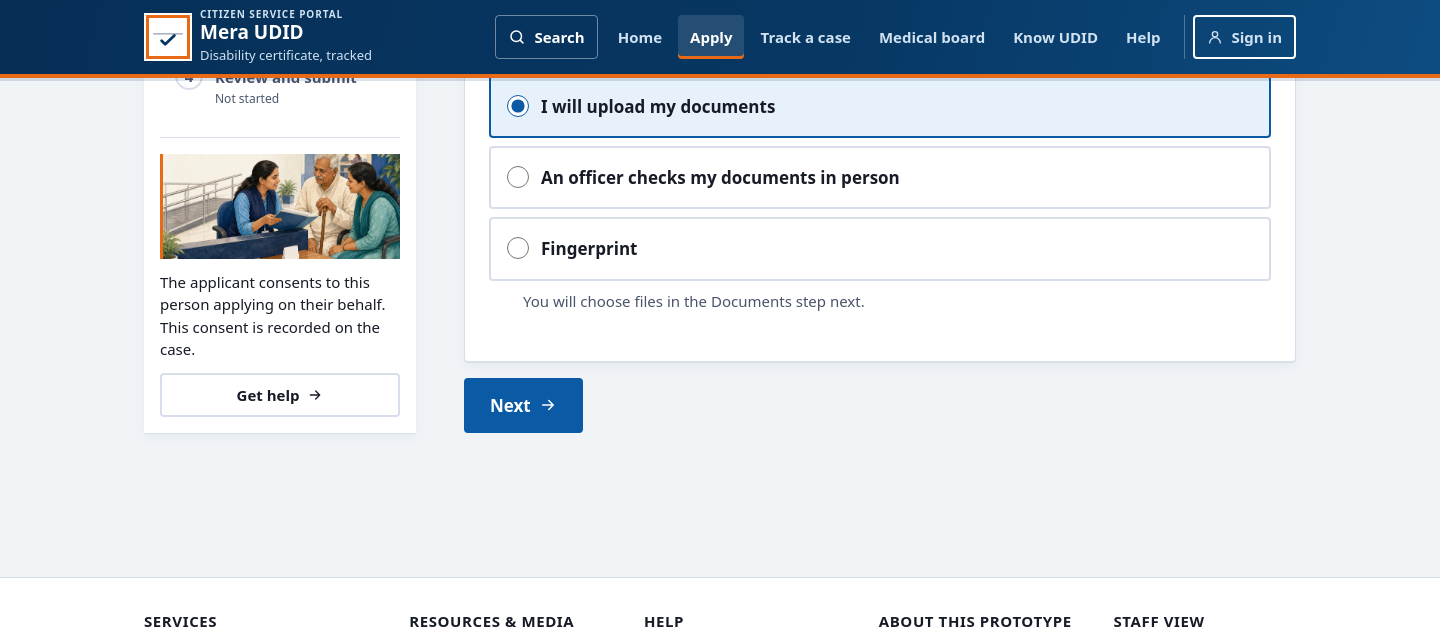
Test case: apply › refuses to move on from an empty form, and says what is wrong
The width and height of the screenshot is (1440, 641).
(page scrolled)
Click the button "Next" at (523,405), box [464,378,583,433]
(page scrolled)
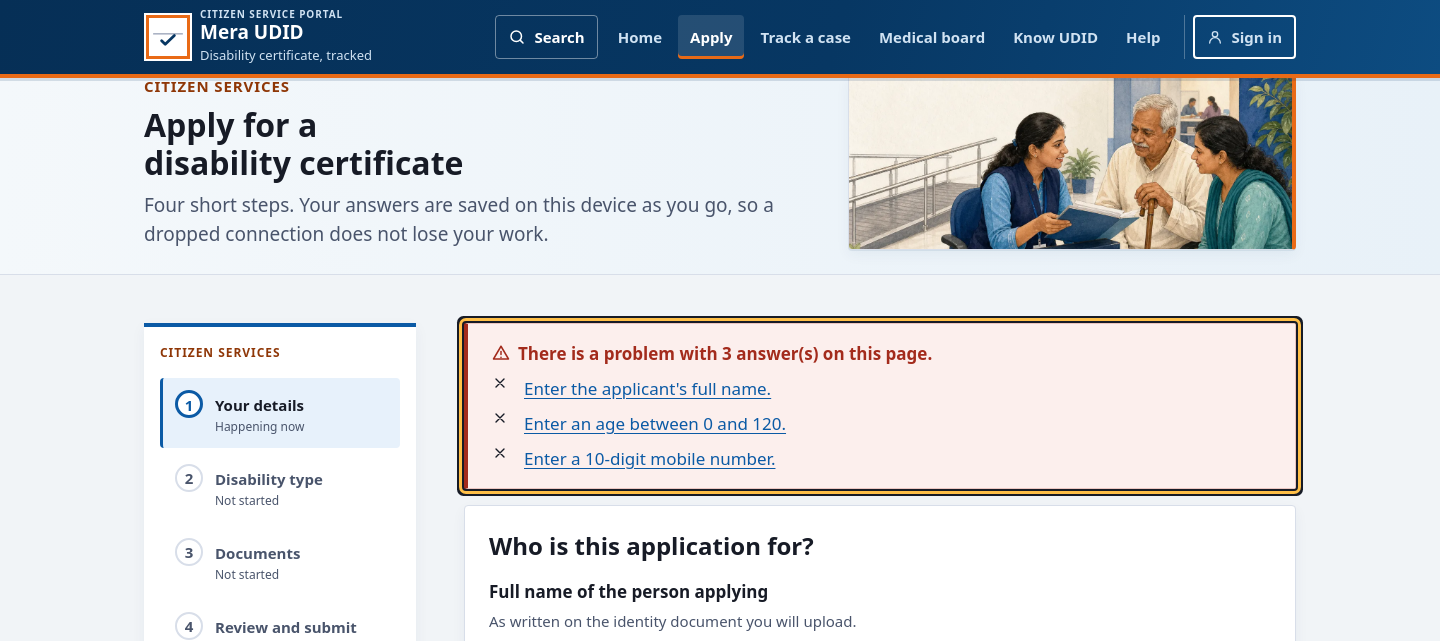
Result: the link "Enter the applicant's full name." is shown at [524,377,771,400]
Result: the link "Enter a 10-digit mobile number." is shown at [524,447,776,470]
